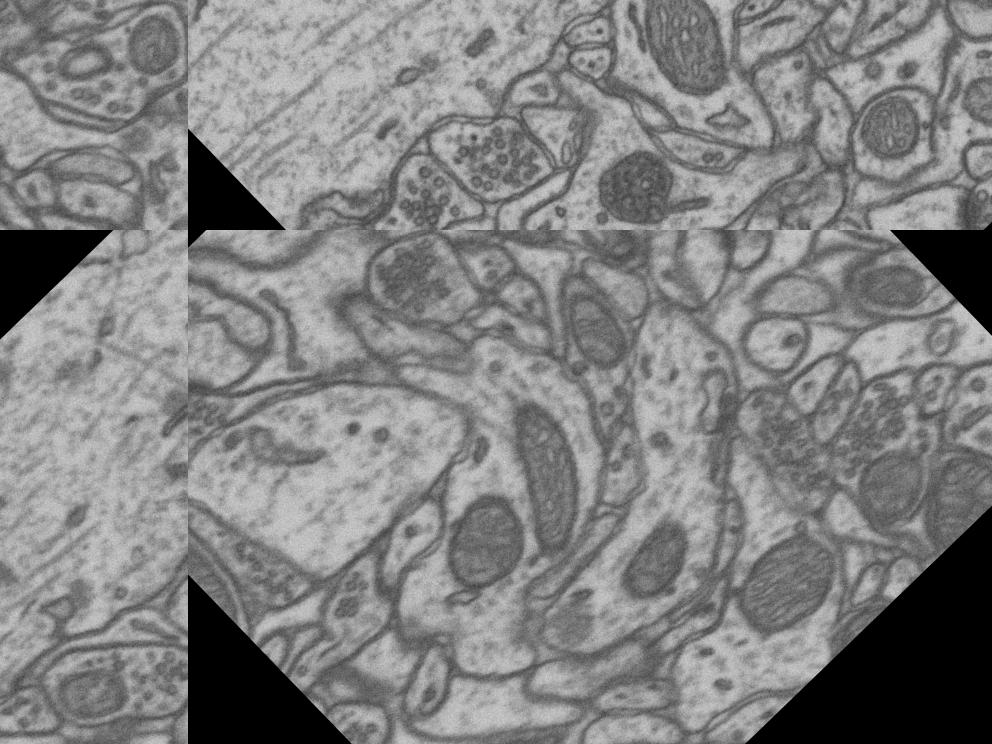mitochondria: (454, 382, 637, 566), (711, 512, 859, 659), (414, 469, 559, 614), (600, 0, 756, 103), (835, 86, 954, 206), (887, 428, 992, 558), (598, 508, 714, 622), (834, 430, 949, 544), (540, 272, 652, 384), (188, 477, 267, 629), (19, 640, 134, 744), (839, 234, 940, 336), (107, 0, 188, 94), (922, 46, 992, 154), (558, 230, 661, 283), (820, 584, 894, 656), (188, 376, 214, 501)
